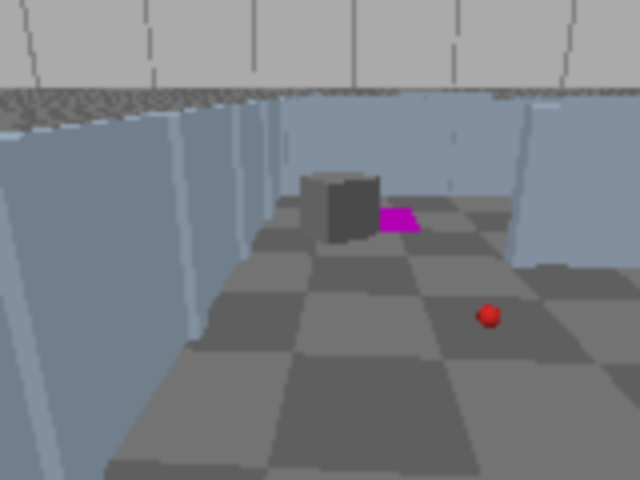puck: (473, 301, 507, 333)
